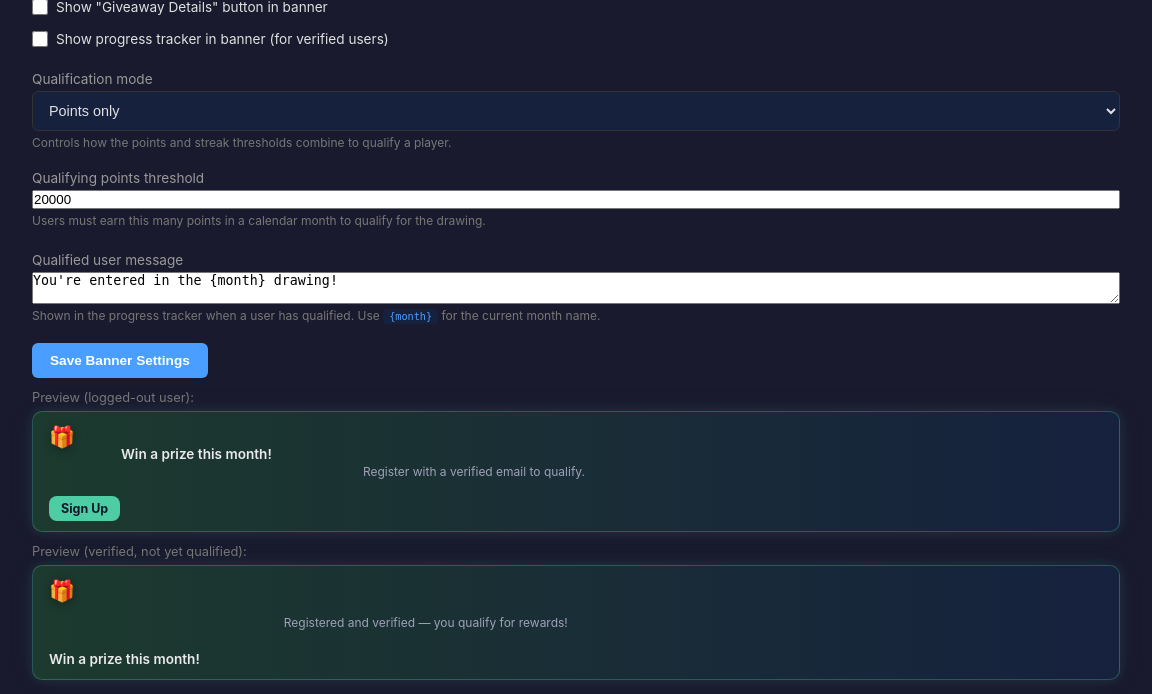
Test: AdminBannerPage › shows error message when save fails
(page scrolled)
Click the button with test id "banner-save" at (120, 360), box [32, 343, 208, 378]
(page scrolled)
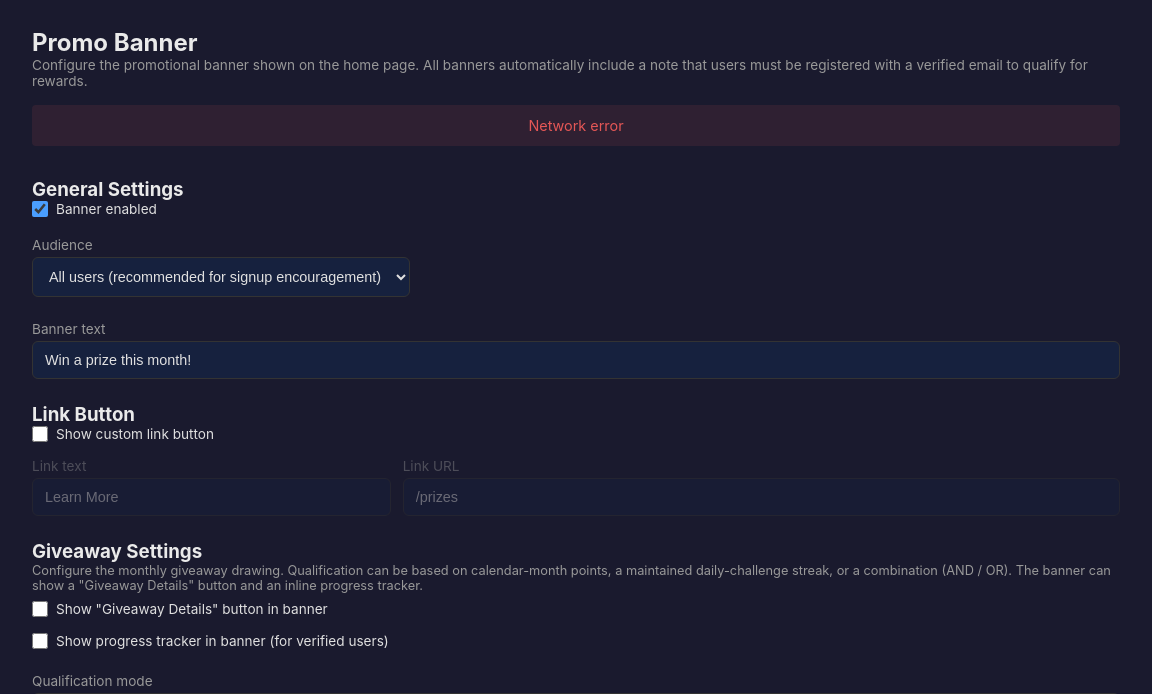
Check: the text "Network error" is shown, box [32, 105, 1120, 146]
